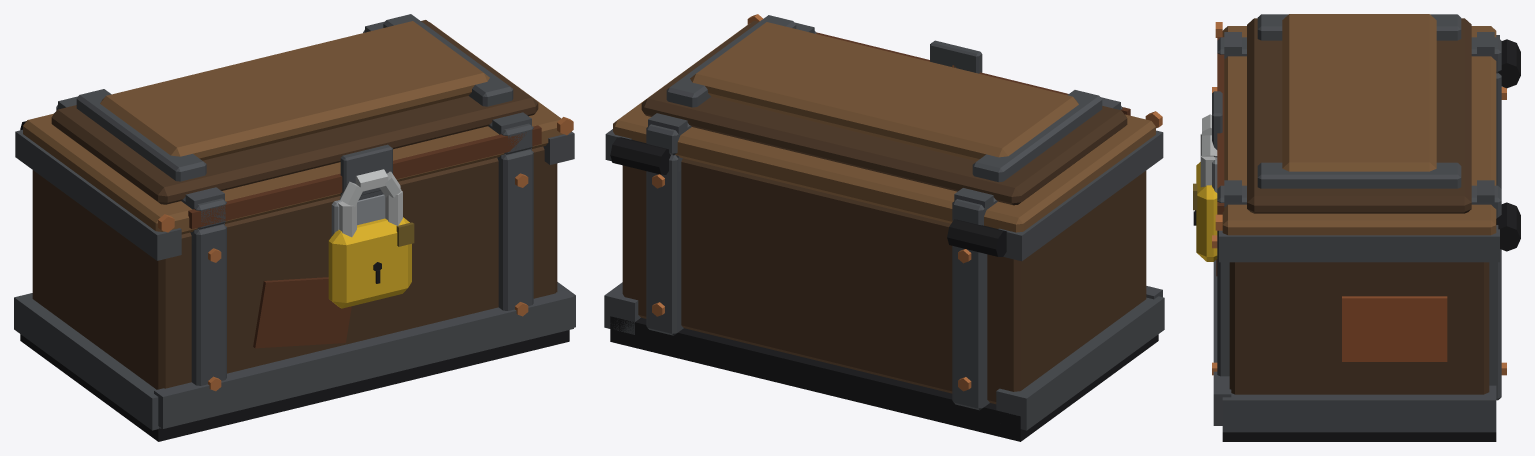
The model's file is camp_locked_chest.fbx.
3 renders of one model, left to right at view 1: azimuth 30°, elevation 25°; view 2: azimuth 150°, elevation 25°; view 3: azimuth 270°, elevation 25°, orthographic.
Visible parts, largest first — view 1: camp_locked_chest, Lid; view 2: camp_locked_chest, Lid; view 3: Lid, camp_locked_chest.
Boxes of the visible parts, x1,y1,x2,y2 form: camp_locked_chest: (14, 129, 575, 441); Lid: (20, 14, 573, 245); camp_locked_chest: (604, 129, 1164, 441); Lid: (610, 14, 1162, 256); Lid: (1212, 14, 1520, 251); camp_locked_chest: (1193, 35, 1506, 441).
Size of the model in its own units: 1.38 by 0.8 by 0.934.
